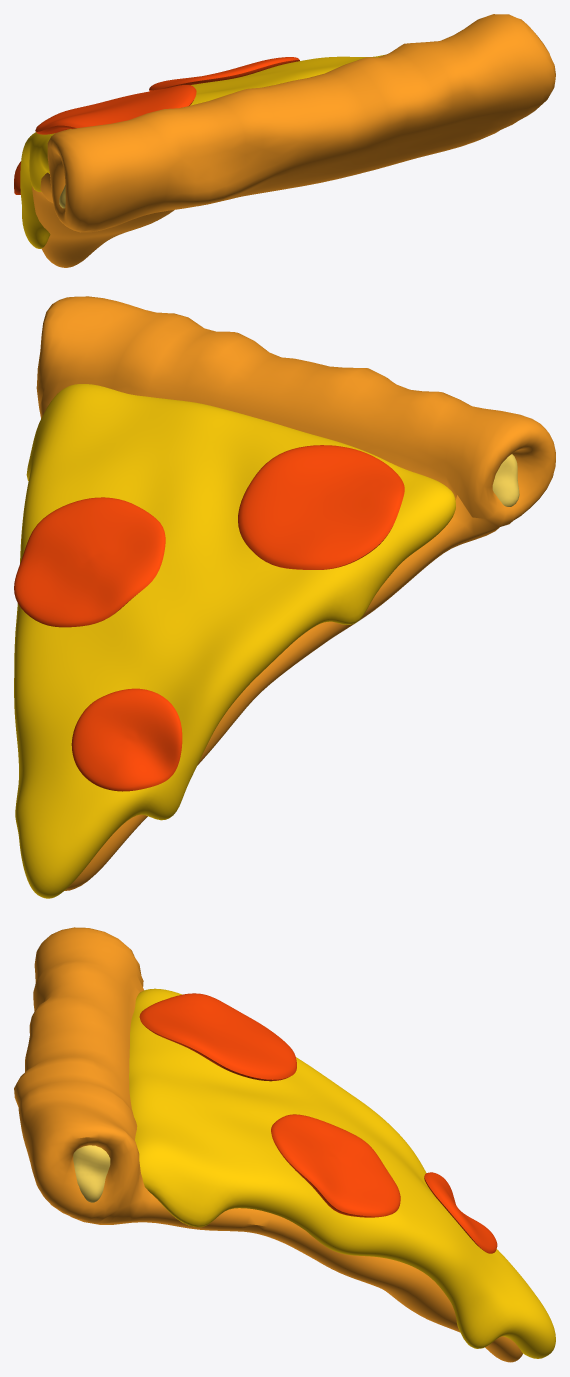
File: asset.gltf
The picture shows the model from 3 angles, top to bottom: view 1: azimuth 30°, elevation 25°; view 2: azimuth 150°, elevation 25°; view 3: azimuth 270°, elevation 25°; orthographic projection. The views are drawn at different scales.
Parts seen in each view (by area): view 1: BREAD, CHEESE_2, PEPPERONI, PEPPERONI_2; view 2: CHEESE_2, BREAD, PEPPERONI, PEPPERONI_2, PEPPERONI_3, CHEESE; view 3: CHEESE_2, BREAD, PEPPERONI_2, PEPPERONI, PEPPERONI_3, CHEESE.
Boxes of the visible parts, x1,y1,x2,y2 form: BREAD: (32, 14, 555, 267); CHEESE_2: (20, 55, 384, 248); PEPPERONI: (35, 85, 196, 134); PEPPERONI_2: (149, 57, 299, 91); CHEESE_2: (14, 384, 455, 898); BREAD: (36, 296, 555, 890); PEPPERONI: (238, 445, 404, 569); PEPPERONI_2: (14, 497, 165, 627); PEPPERONI_3: (71, 688, 182, 791); CHEESE: (492, 454, 519, 506); CHEESE_2: (129, 988, 555, 1358); BREAD: (14, 927, 522, 1362); PEPPERONI_2: (271, 1114, 400, 1217); PEPPERONI: (139, 993, 296, 1081); PEPPERONI_3: (424, 1172, 497, 1253); CHEESE: (73, 1145, 110, 1202).
Size of the model in its own units: 106 by 74.06 by 106.
